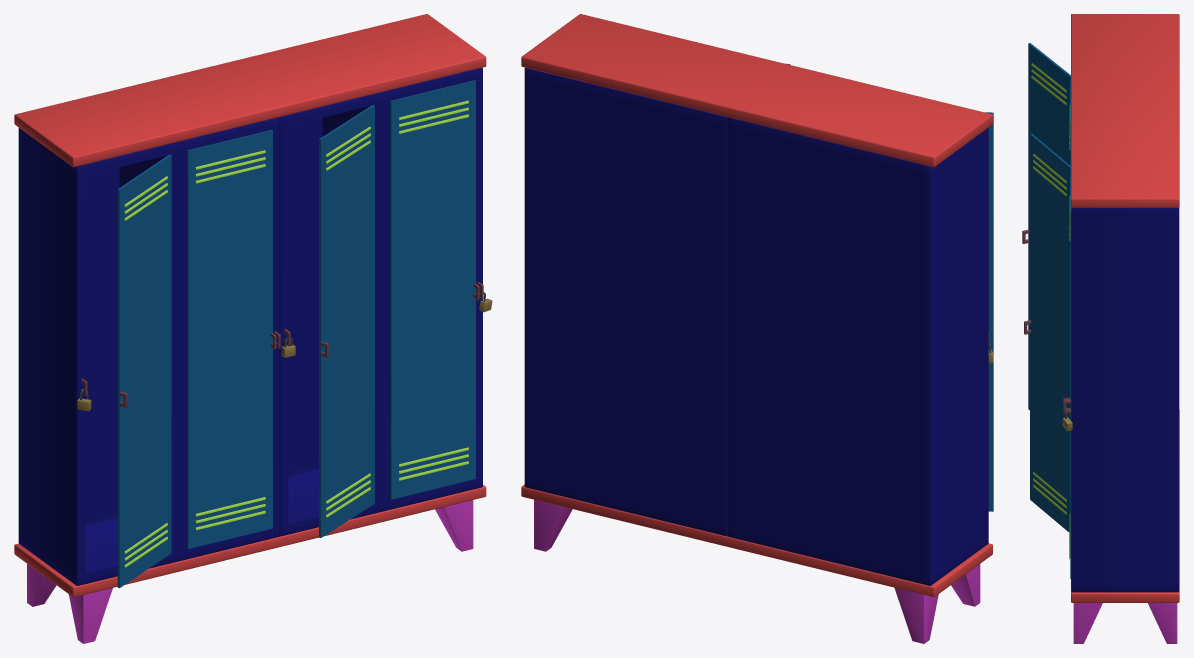
Rendered from CabinetMetal.fbx.
3 views of the same model, side by side, from view 1: azimuth 30°, elevation 25°; view 2: azimuth 150°, elevation 25°; view 3: azimuth 270°, elevation 25° (orthographic). The views are drawn at different scales.
Parts seen in each view (by area): view 1: CabinetMetal; view 2: CabinetMetal; view 3: CabinetMetal.
Part boxes in pixels (<box>): CabinetMetal: <box>14,14,492,643</box>; CabinetMetal: <box>521,14,993,643</box>; CabinetMetal: <box>1022,14,1179,643</box>.
Bounding box in the file's own units: 189 × 213 × 67.27.
